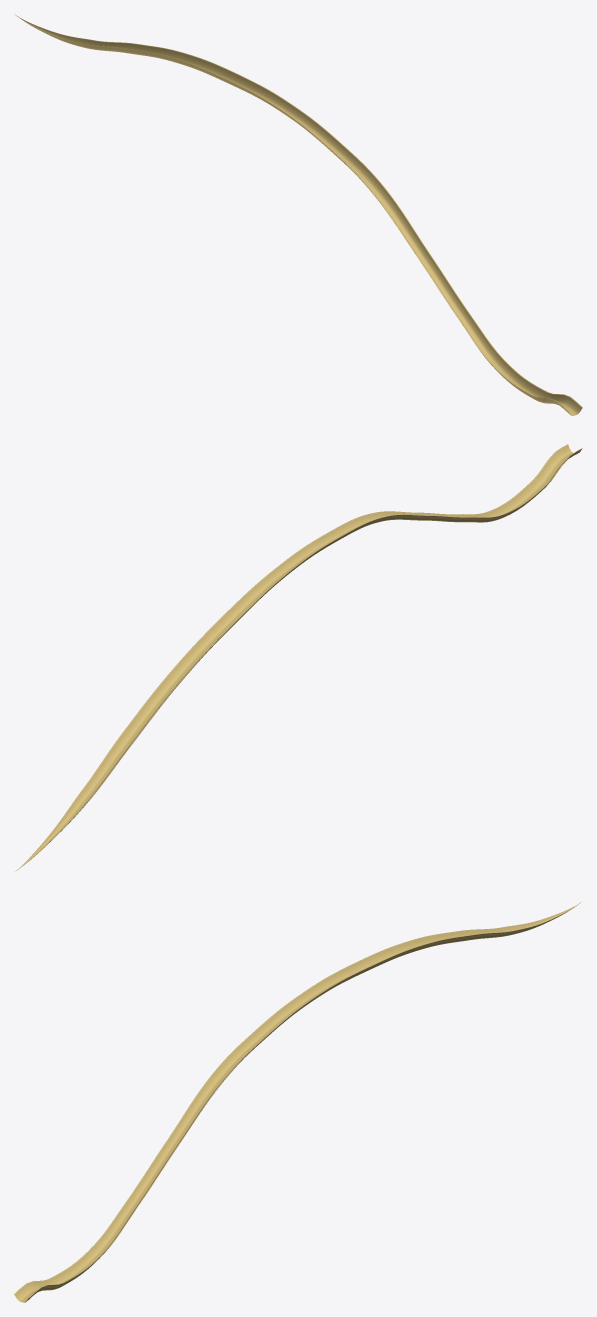
3 renders of one model, top to bottom at view 1: azimuth 30°, elevation 25°; view 2: azimuth 150°, elevation 25°; view 3: azimuth 330°, elevation 25°, orthographic.
Parts seen in each view (by area): view 1: 后固有束; view 2: 后固有束; view 3: 后固有束.
Boxes of the visible parts, <box> form: 后固有束: <box>14,14,582,415</box>; 后固有束: <box>14,444,582,872</box>; 后固有束: <box>14,901,582,1302</box>.
Bounding box in the file's own units: 0.0114 × 0.0786 × 0.7222.
